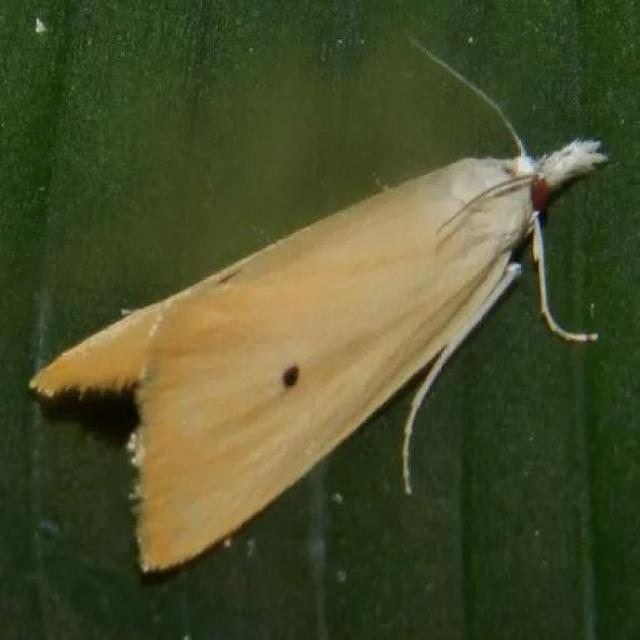rice stem borer -penggerek batang padi-: (25, 26, 611, 578)
